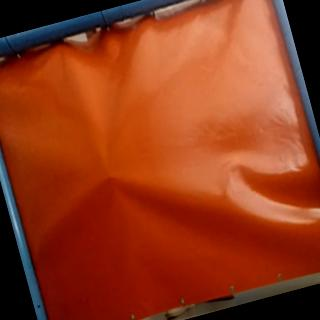Hit-hRxx: (101, 168, 123, 185)
